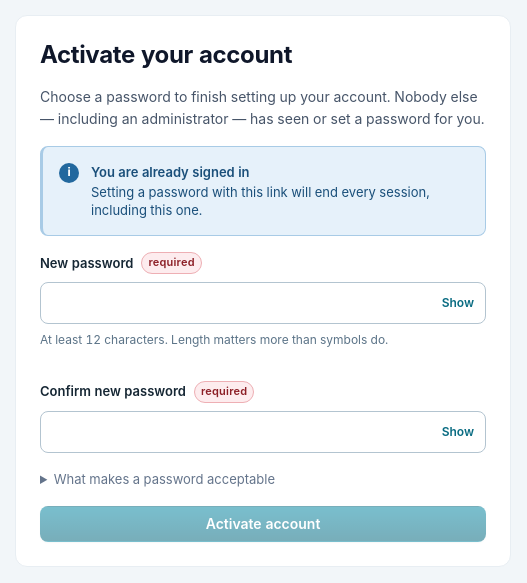
Test case: activation through a one-time link › sends the token from the query string and nothing else
Type "tumour-margin-assay-14" into the password field labelled "New password". click: (263, 303)
box: top-left (40, 282), bottom-right (486, 324)
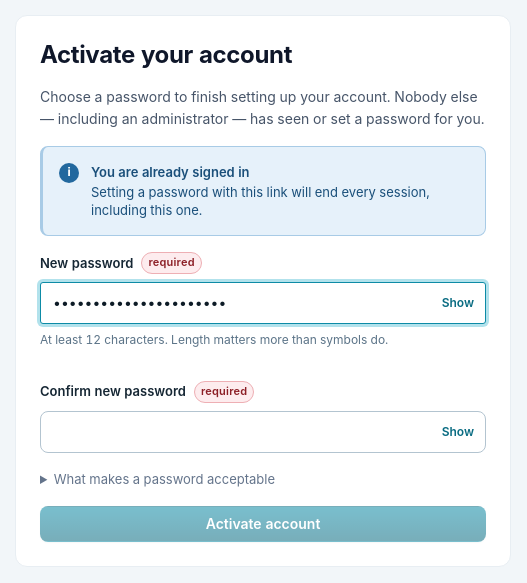
Type "tumour-margin-assay-14" into the password field labelled "Confirm new password". click: (263, 432)
box: top-left (40, 411), bottom-right (486, 453)
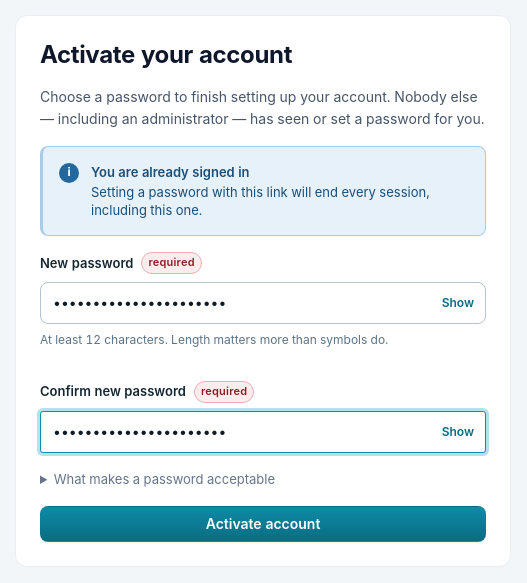
Click the button with test id "submit-password". click: (263, 524)
box: top-left (40, 506), bottom-right (486, 542)
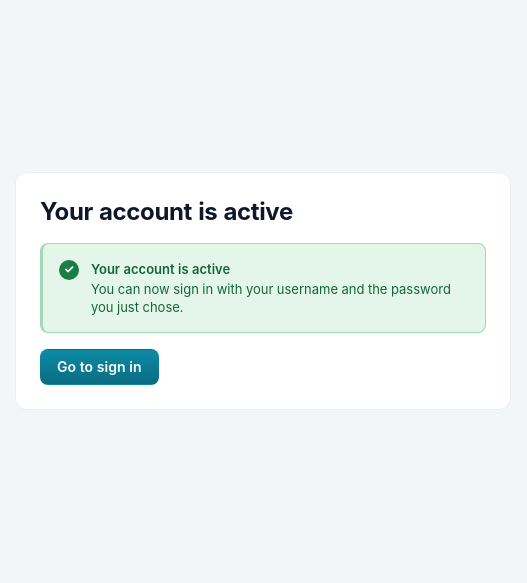
Now the heading with test id "account-page-title" reads "Your account is active", box top-left (40, 197), bottom-right (293, 226)
